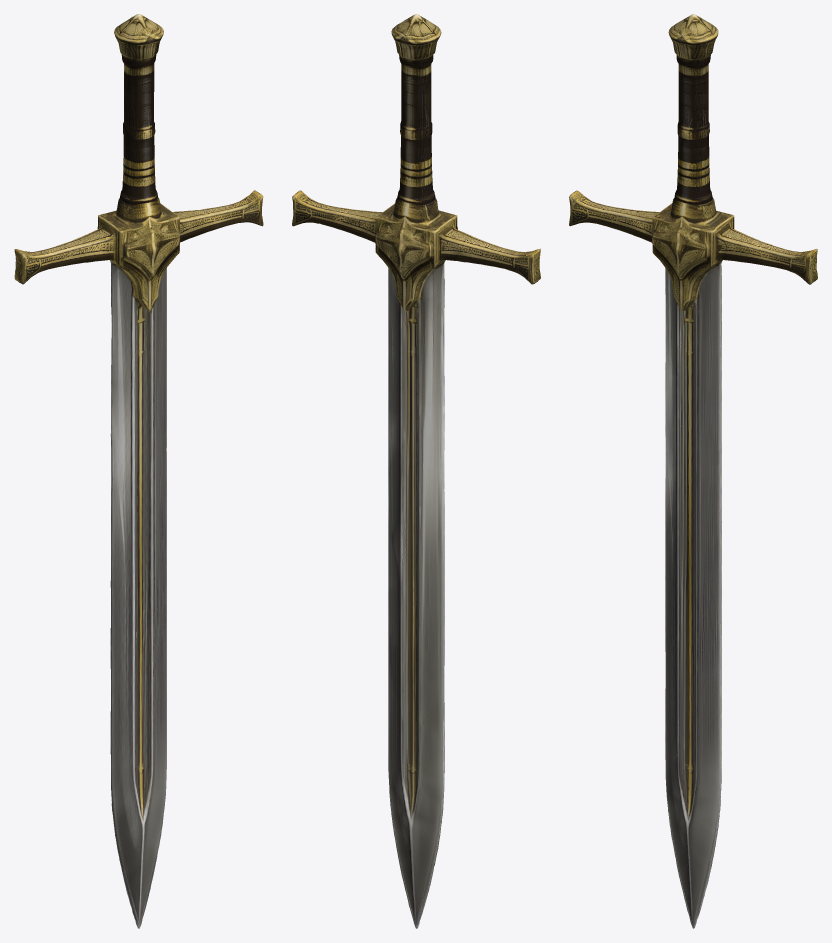
Rendered from Meshy_AI_Golden_Sovereign_Swor_0613024442_texture.glb.
The picture shows the model from 3 angles, left to right: view 1: azimuth 30°, elevation 25°; view 2: azimuth 150°, elevation 25°; view 3: azimuth 330°, elevation 25°; orthographic projection.
Visible parts, largest first — view 1: Mesh_0; view 2: Mesh_0; view 3: Mesh_0.
Boxes of the visible parts, x1,y1,x2,y2 form: Mesh_0: (14,14,263,928); Mesh_0: (292,14,540,928); Mesh_0: (569,14,817,928).
Size of the model in its own units: 0.5289 by 1.91 by 0.1223.
Materials: 1 (1 with a texture image).
